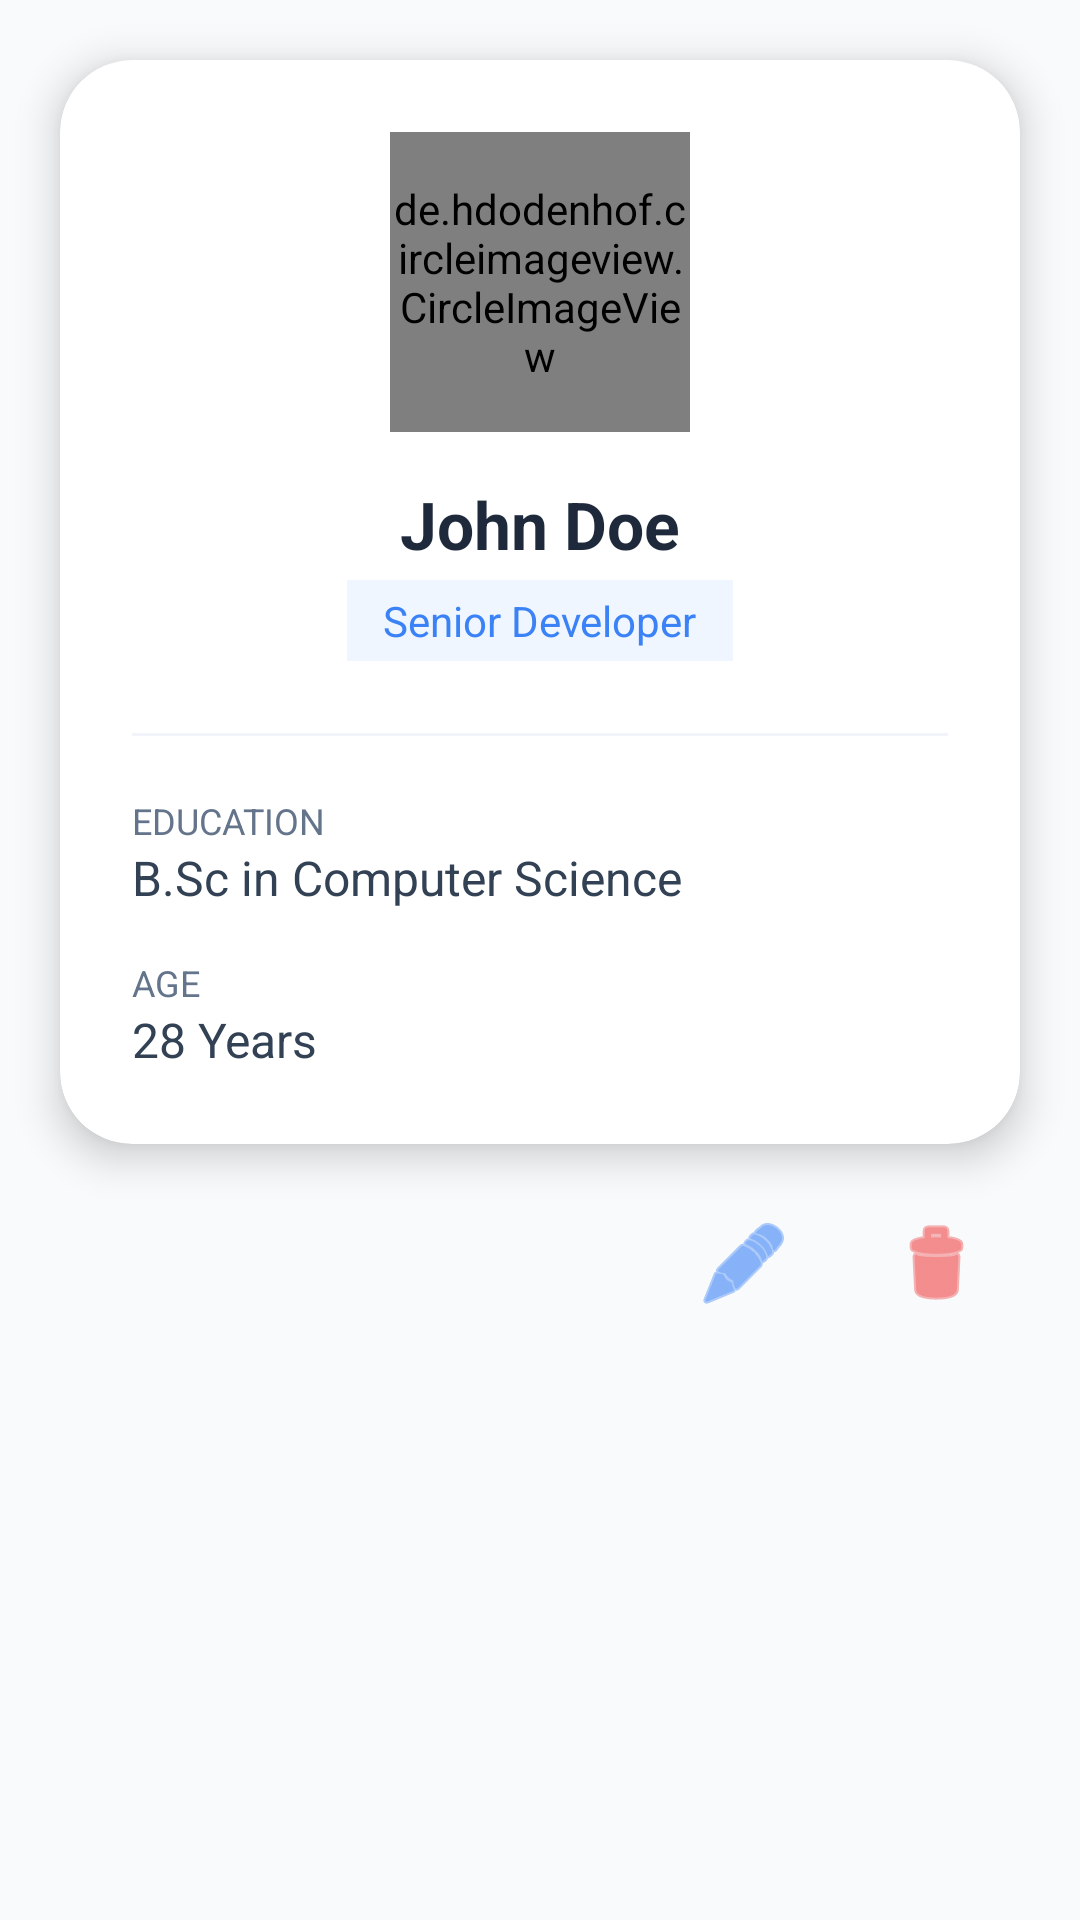

Named icons in this screenshot (1080w x 1920h) and their bounding boxes, BBox(x1, y1, x2, y2):
delete: BBox(909, 1225, 964, 1300)
edit: BBox(703, 1223, 784, 1304)
